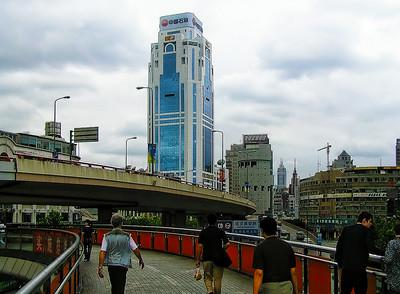building: (143, 8, 224, 188)
